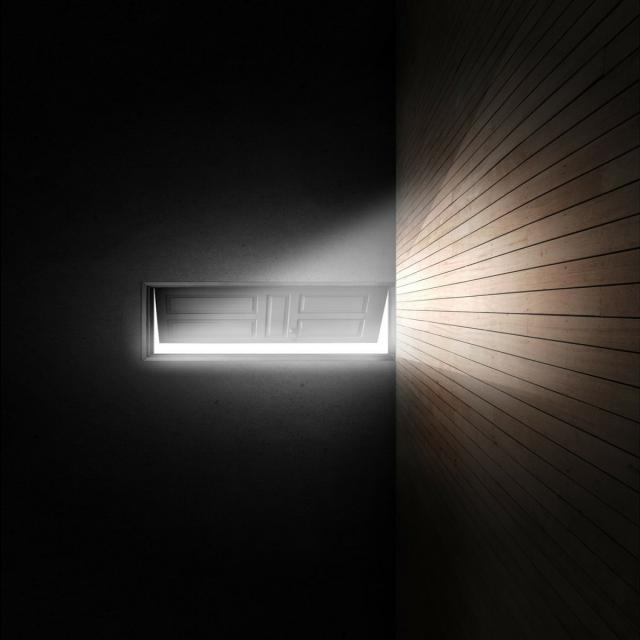open: (144, 282, 394, 362)
